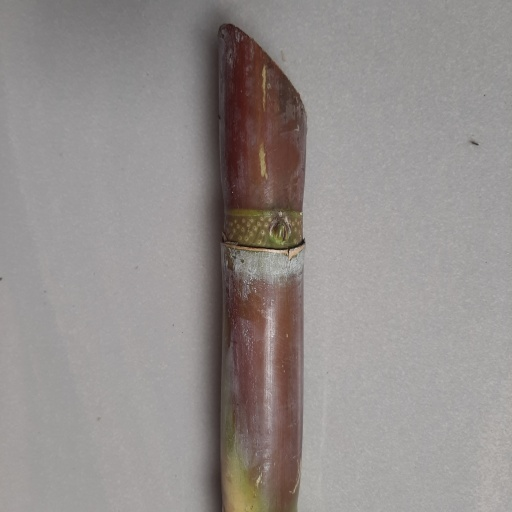Bud: (270, 218, 291, 246)
